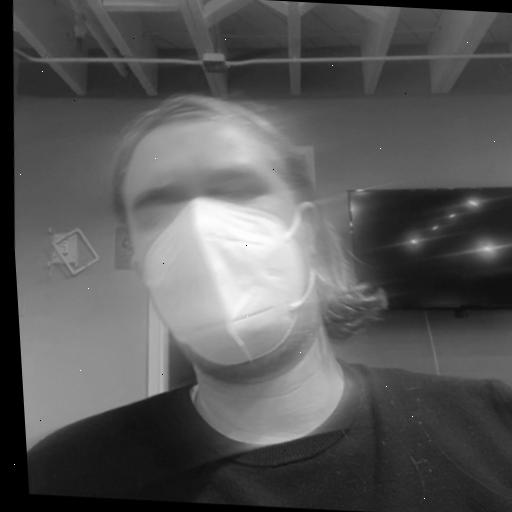mask: (59, 68, 419, 448)
